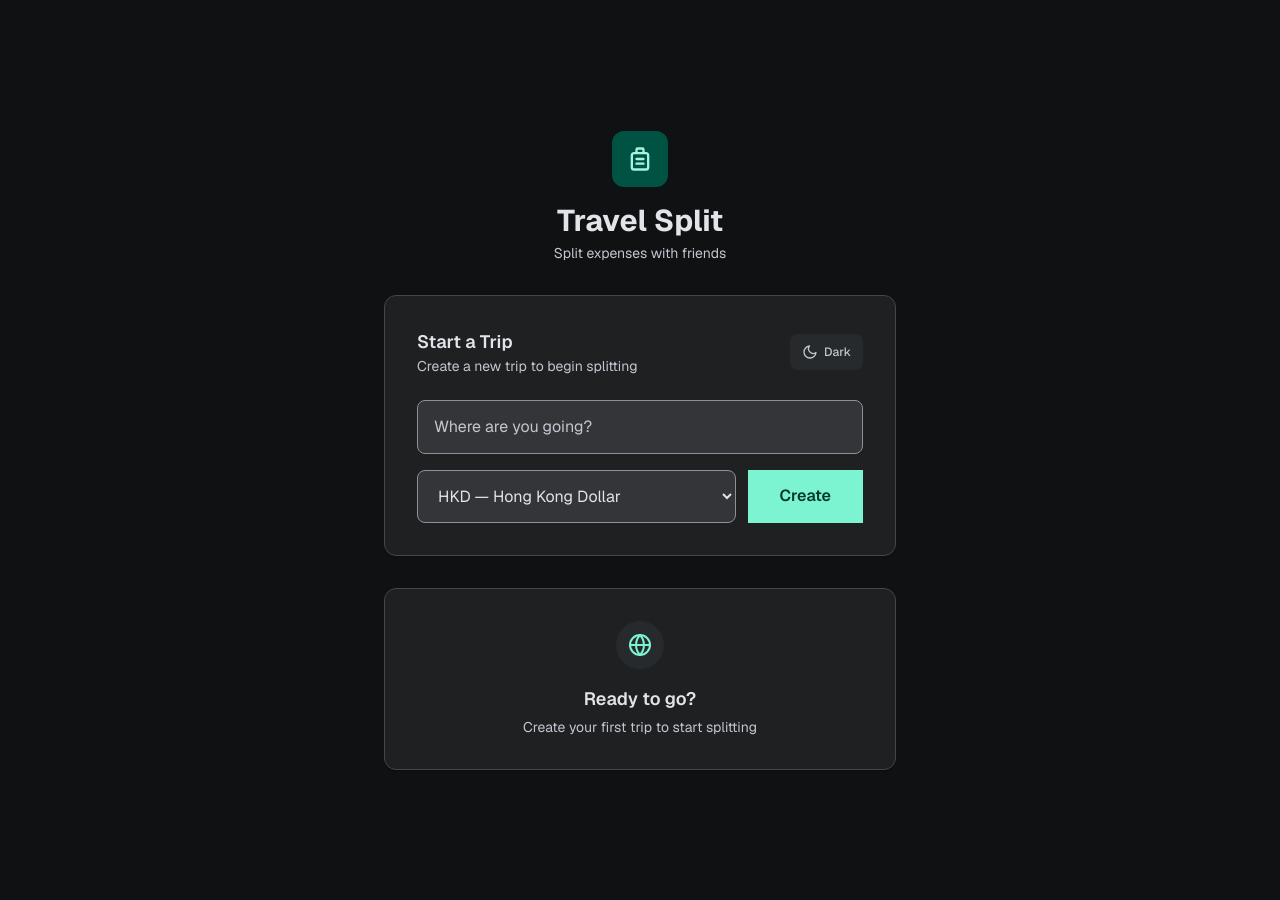
Test: App integration › creates a trip and navigates to it
The width and height of the screenshot is (1280, 900).
In the field with placeholder "Where are you going?": (640, 426) 417,400 -> 863,454, type "Tokyo Trip"
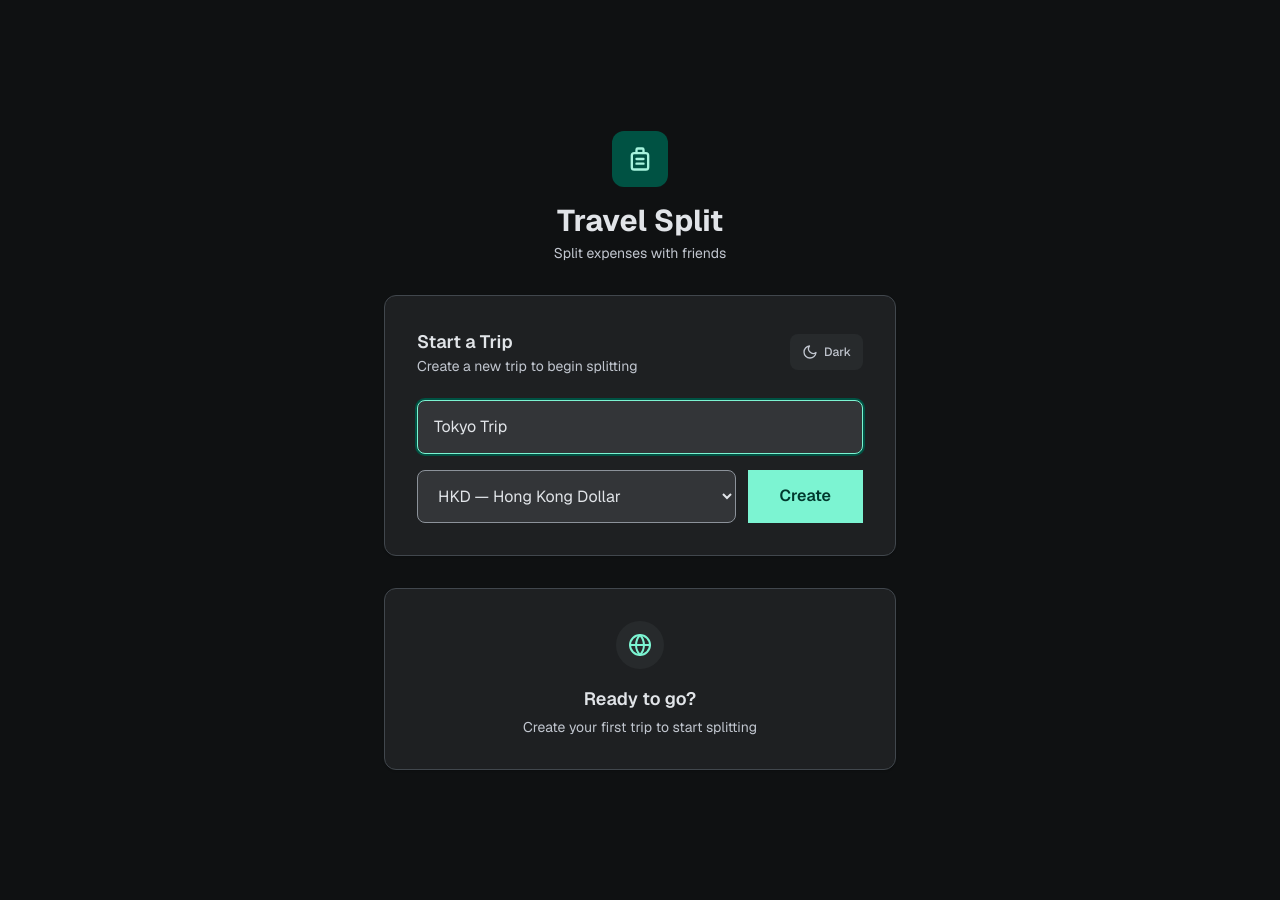
Click the button "Create": (805, 496) 748,470 -> 863,522
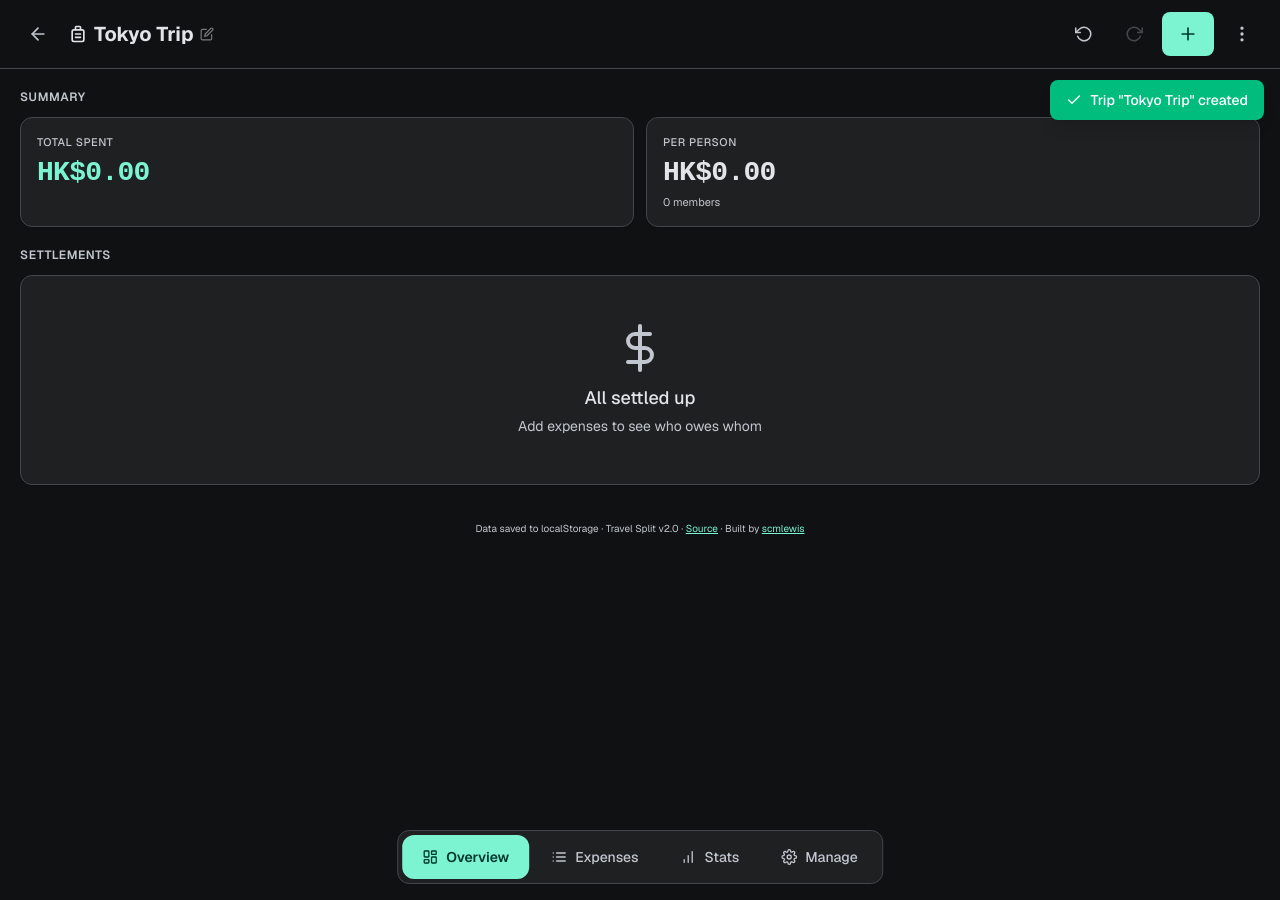
Expected: the button "Tokyo Trip" is shown, 68,12 -> 214,56
Expected: the heading "Summary" is shown, 20,89 -> 86,105
